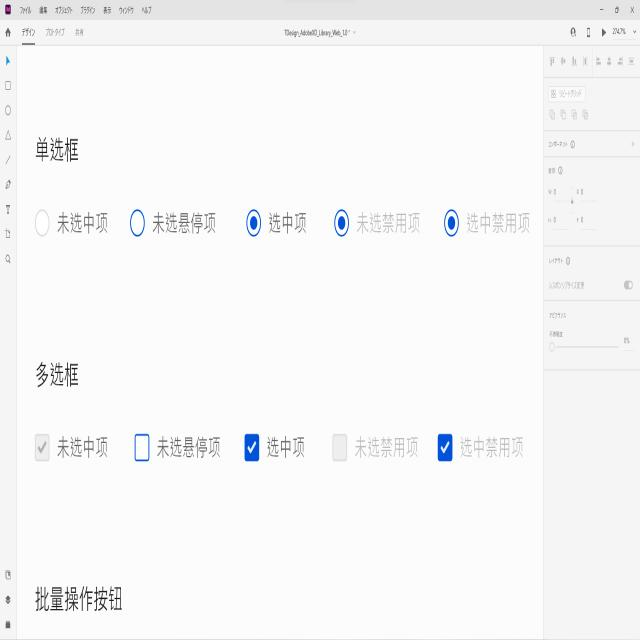checkbox: (436, 433, 453, 462), (34, 432, 50, 461), (245, 434, 260, 462)
radio: (333, 208, 350, 236), (246, 208, 262, 236), (444, 208, 459, 236)
